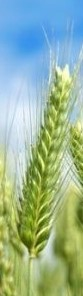Healthy Wheat: (20, 65, 78, 254)
